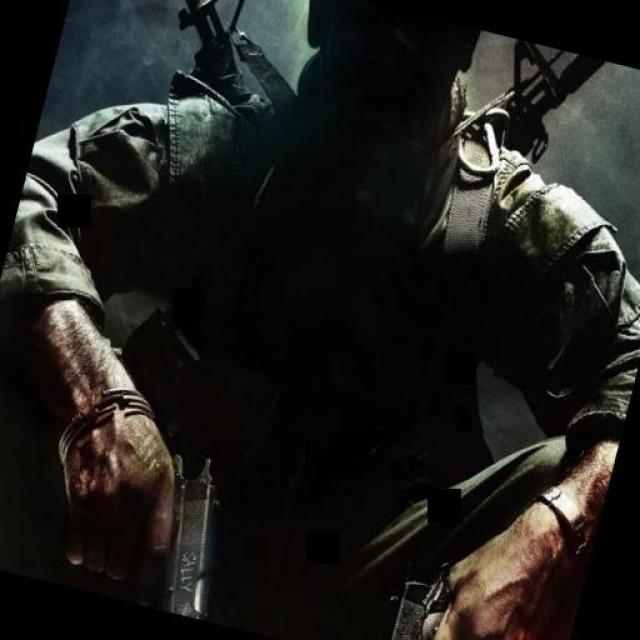gun: (128, 448, 248, 622), (368, 529, 463, 640)
